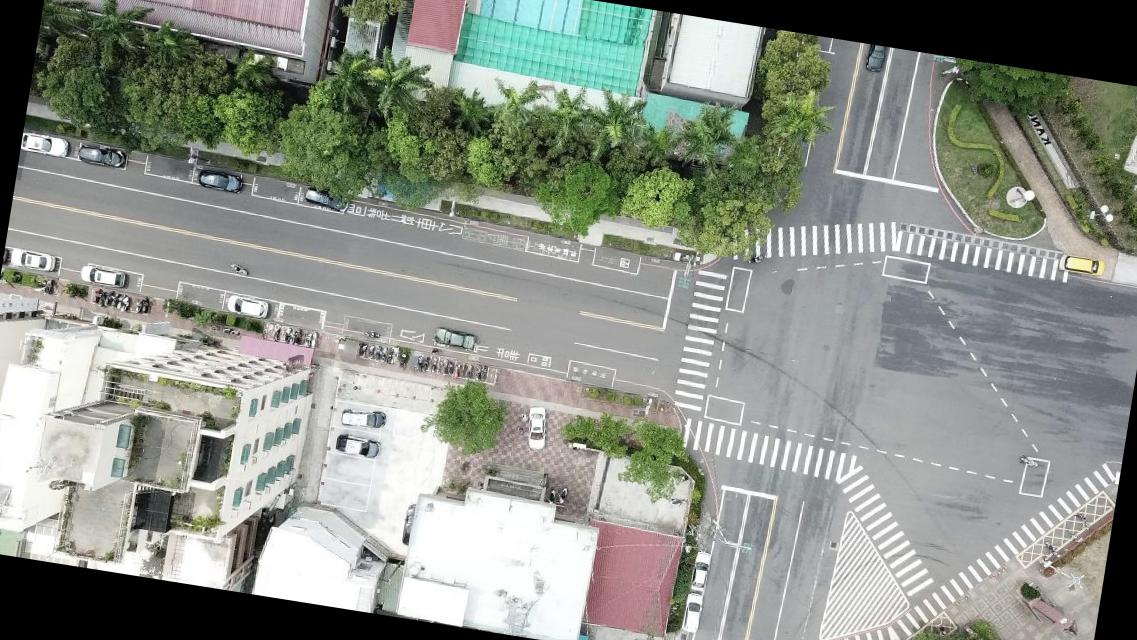vehicle: (20, 130, 74, 162), (75, 141, 130, 171), (522, 404, 554, 452), (302, 186, 351, 214), (9, 245, 58, 273), (78, 262, 130, 288), (333, 432, 382, 459), (197, 167, 245, 194), (678, 590, 706, 636), (430, 326, 480, 351), (339, 404, 386, 430), (1057, 252, 1105, 277), (225, 294, 270, 320), (689, 550, 714, 590), (862, 43, 888, 75)
